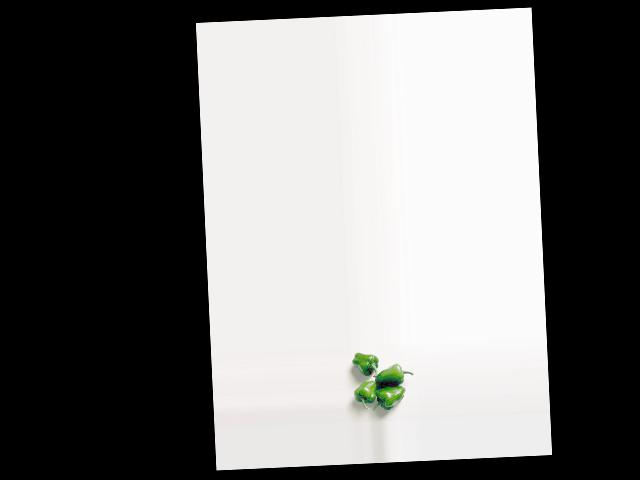bell_pepper: (353, 378, 375, 409)
